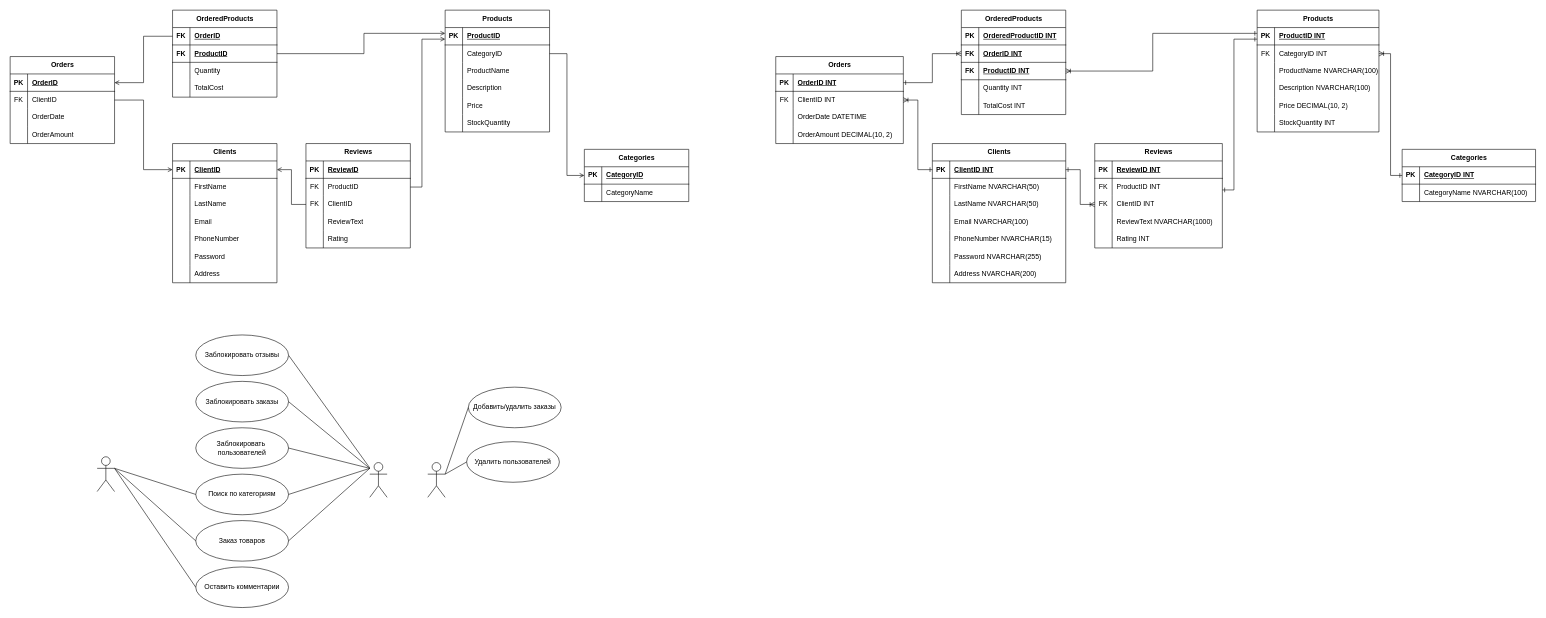
This 1546x618 diagram has some shape labels left out. The shapes that lost their labels are listed below. From the top down, each one's centre as x and y in pixels, then its label:
At point 106,474: "Пользователь".
At point 378,479: "Менеджер".
At point 436,479: "Администратор".
